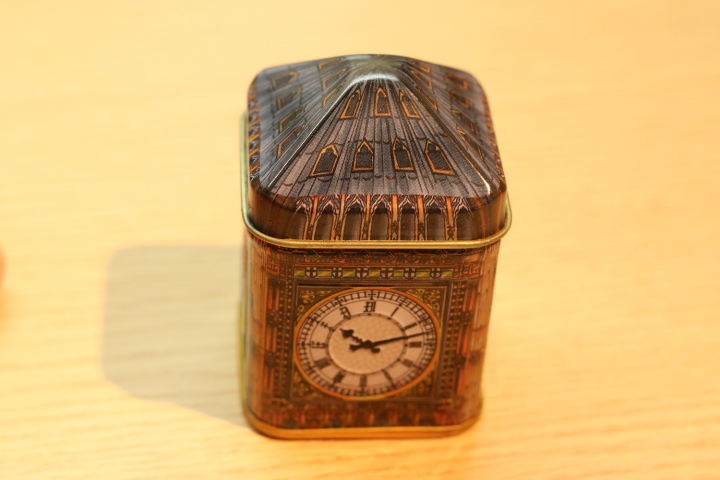Big Ben: (231, 41, 533, 445)
